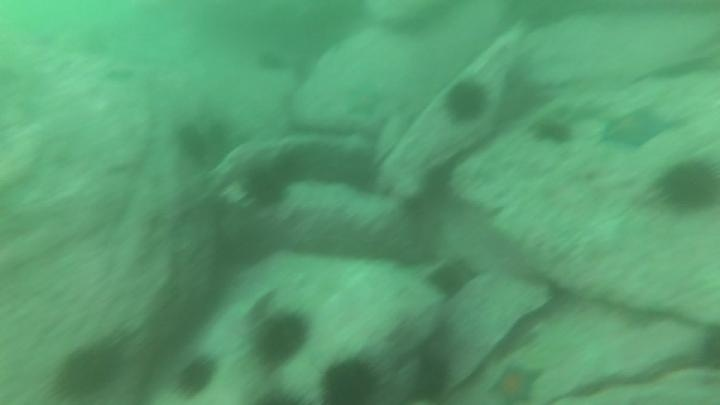echinus: (51, 338, 125, 402), (249, 306, 314, 371), (654, 154, 720, 216), (317, 355, 382, 405), (407, 350, 454, 404), (334, 147, 385, 196), (425, 256, 479, 301), (442, 77, 491, 126), (241, 163, 289, 209), (173, 353, 219, 400), (173, 121, 211, 164), (420, 161, 458, 204), (529, 116, 576, 148), (201, 117, 234, 156), (254, 47, 289, 76)
starfish: (596, 104, 686, 153), (487, 361, 545, 405), (426, 256, 480, 301), (340, 81, 388, 121)
